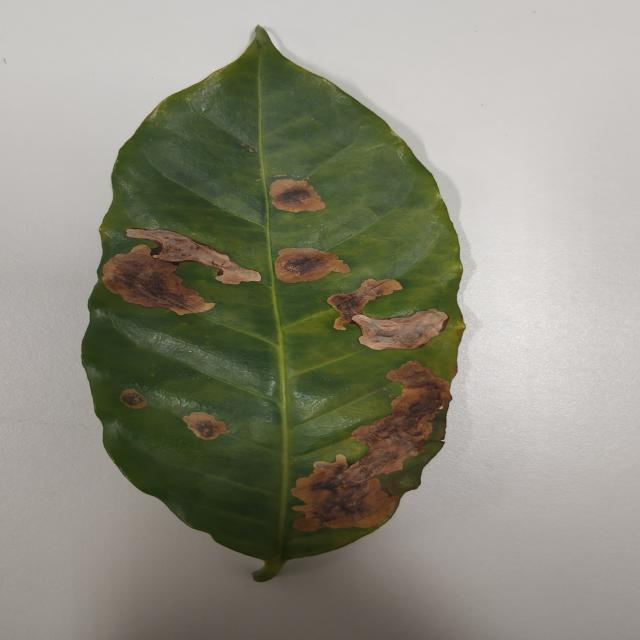Plaga-Minador: (79, 27, 466, 585)
